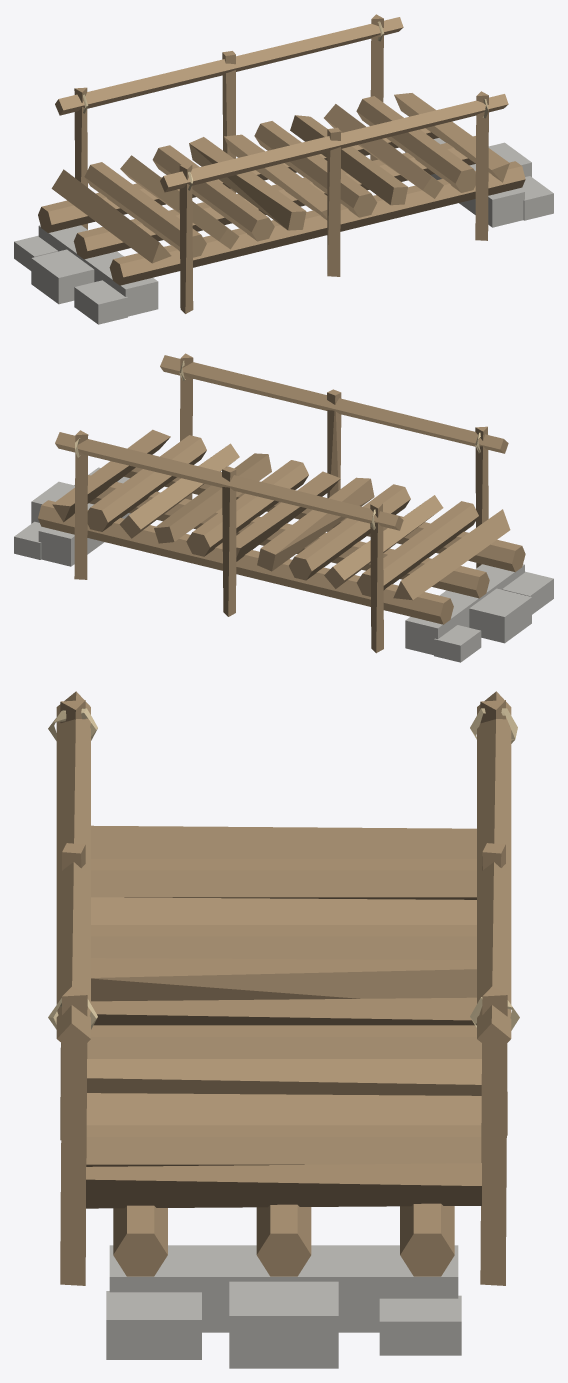
File: 40-Infraestructura_puente_troncos.glb
3 views of the same model, one above another, from view 1: azimuth 30°, elevation 25°; view 2: azimuth 150°, elevation 25°; view 3: azimuth 270°, elevation 25° (orthographic). The views are drawn at different scales.
Parts seen in each view (by area): view 1: SM_Puente_M_Piedra_Puente_Madera_Puente_Cuerda_Puente; view 2: SM_Puente_M_Piedra_Puente_Madera_Puente_Cuerda_Puente; view 3: SM_Puente_M_Piedra_Puente_Madera_Puente_Cuerda_Puente.
Part boxes in pixels (<box>): SM_Puente_M_Piedra_Puente_Madera_Puente_Cuerda_Puente: <box>14,14,553,324</box>; SM_Puente_M_Piedra_Puente_Madera_Puente_Cuerda_Puente: <box>14,353,553,662</box>; SM_Puente_M_Piedra_Puente_Madera_Puente_Cuerda_Puente: <box>48,691,519,1368</box>.
Bounding box in the file's own units: 3.2 × 0.935 × 1.38.
